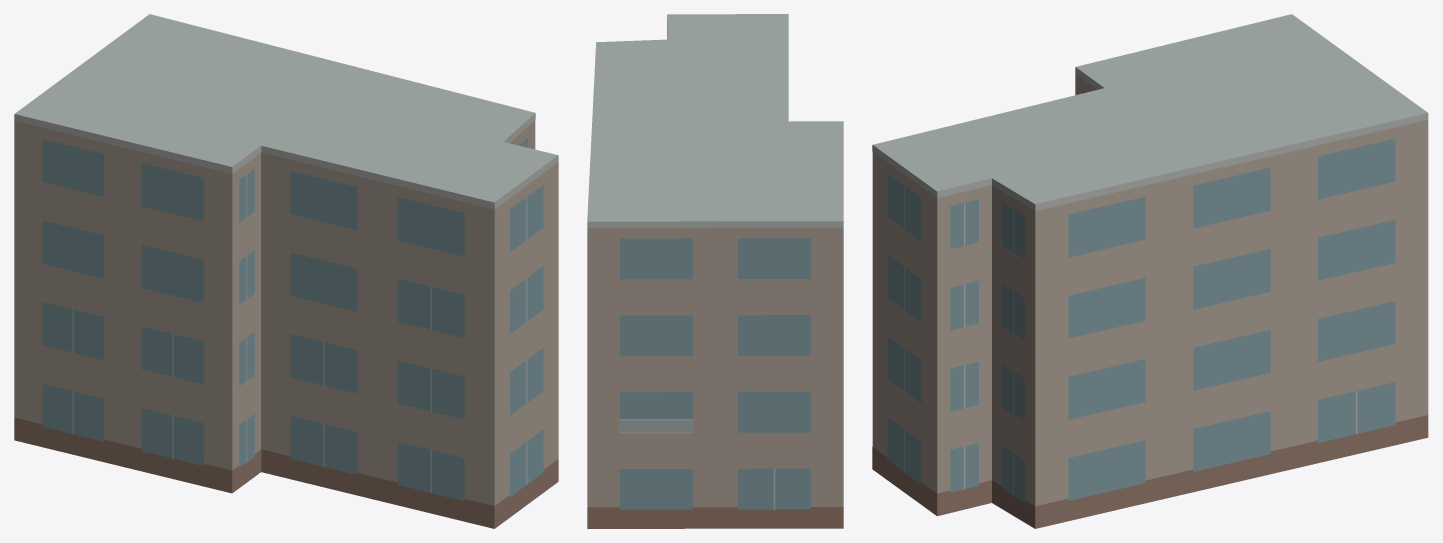
File: survey-upis-32627985.glb
3 views of the same model, side by side, from view 1: azimuth 30°, elevation 25°; view 2: azimuth 150°, elevation 25°; view 3: azimuth 270°, elevation 25° (orthographic). The views are drawn at different scales.
Visible parts, largest first — view 1: survey-upis-32627985.tmp; view 2: survey-upis-32627985.tmp; view 3: survey-upis-32627985.tmp.
Boxes of the visible parts, bbox=[...] form: survey-upis-32627985.tmp: bbox=[14, 14, 558, 528]; survey-upis-32627985.tmp: bbox=[587, 14, 843, 528]; survey-upis-32627985.tmp: bbox=[872, 14, 1428, 528].
Bounding box in the file's own units: 14.72 × 11.7 × 18.16.
